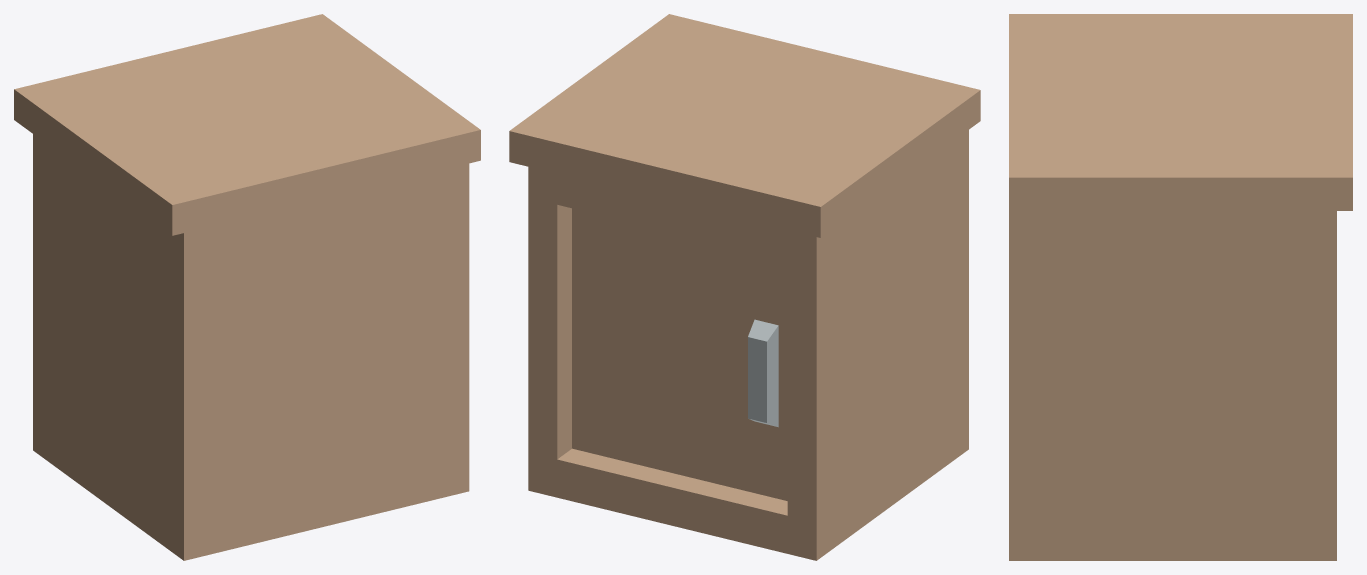
File: nightstand.glb
3 renders of one model, left to right at view 1: azimuth 30°, elevation 25°; view 2: azimuth 150°, elevation 25°; view 3: azimuth 270°, elevation 25°, orthographic. The views are drawn at different scales.
Visible parts, largest first — view 1: nightstand; view 2: nightstand; view 3: nightstand.
Part boxes in pixels (<box>): nightstand: <box>14,14,480,560</box>; nightstand: <box>509,14,980,560</box>; nightstand: <box>1009,14,1352,560</box>.
Bounding box in the file's own units: 0.45 × 0.5 × 0.4.
